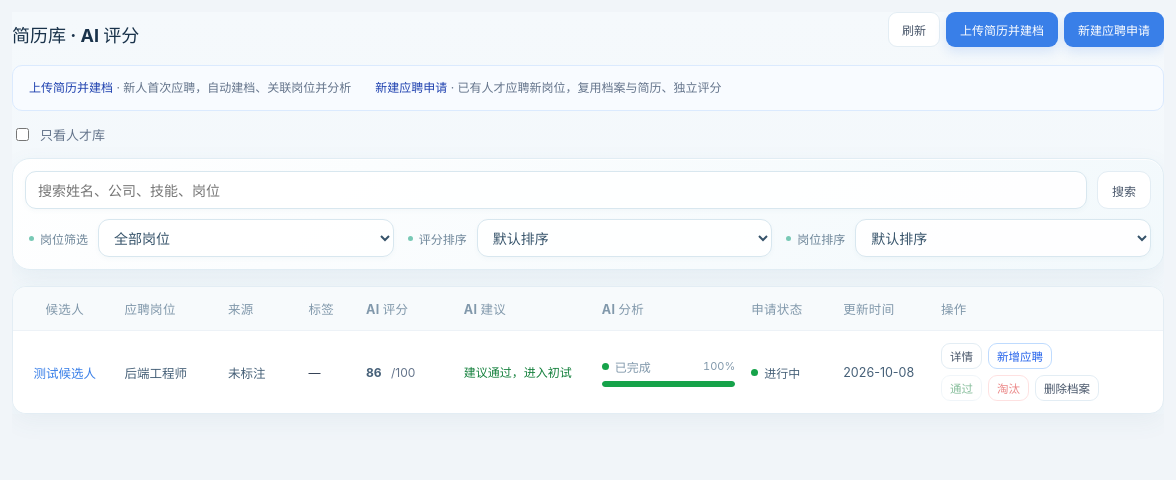
Test case: CandidateListPage deletion › keeps the candidate and displays a failure reason
The image size is (1176, 480).
Click the button with class "delete-button" at (1067, 388), box [1035,375,1099,401]
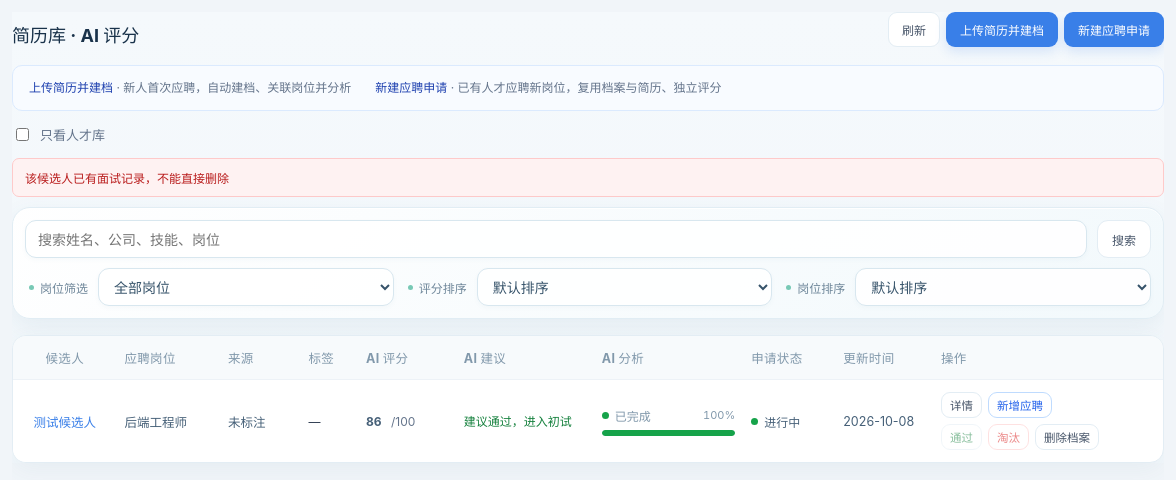
Expected: the button with class "name-link" reads "测试候选人", [21,412,108,431]
Expected: the text with class "error-note" shows "已有面试记录", [25,171,229,186]
